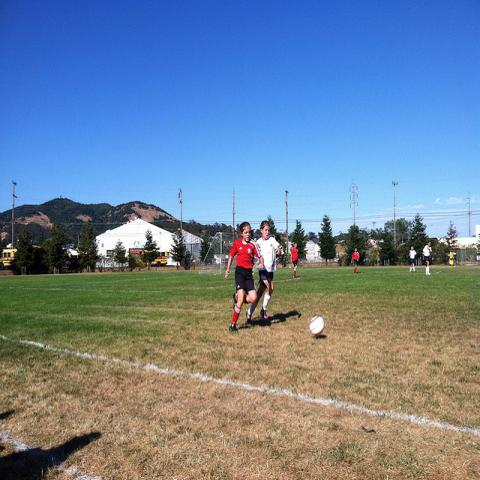bus: (129, 248, 168, 268), (0, 249, 17, 270)
